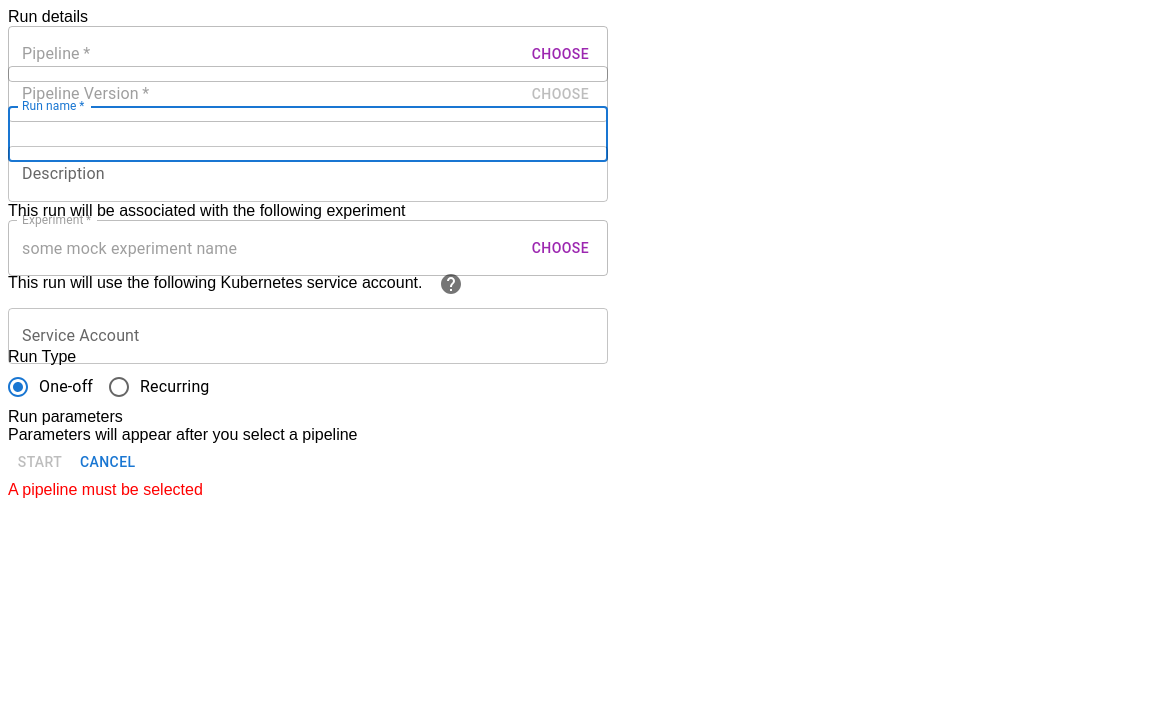
Test: NewRun › choosing a pipeline version › sets the pipeline version from the selector modal when confirmed
The width and height of the screenshot is (1152, 720).
// Choose pipeline first
Click the 1st button "Choose": (560, 54) [527,39,594,69]
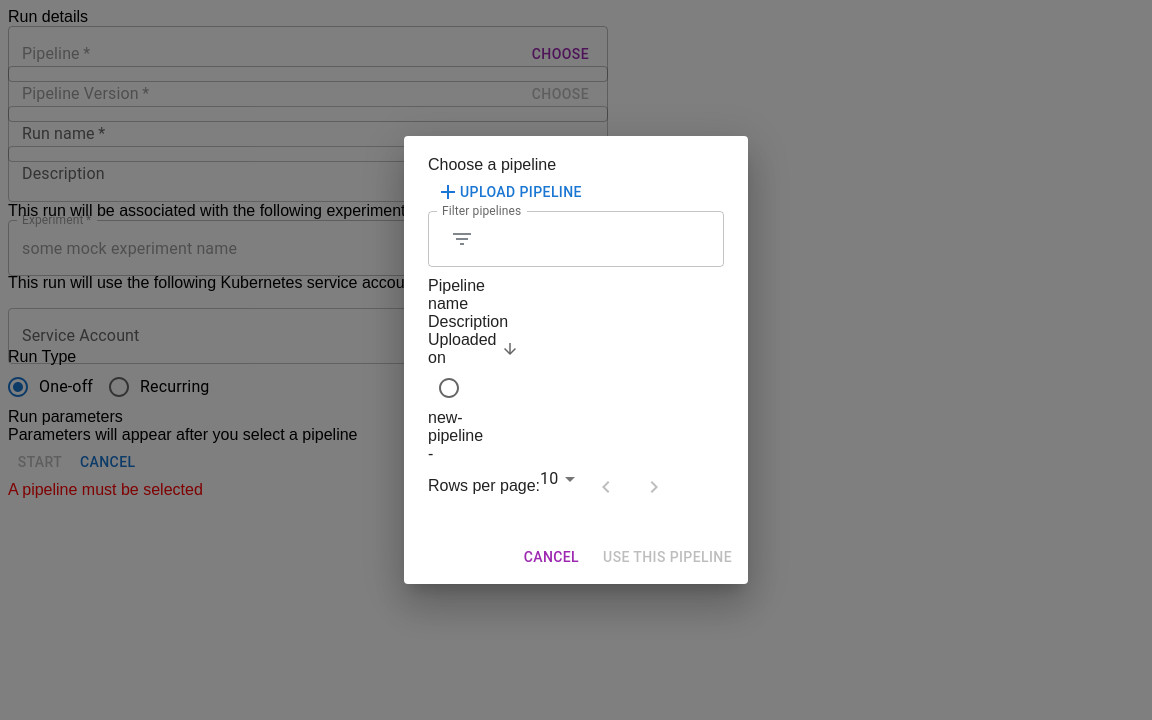
Click the text "new-pipeline": (445, 418) [428,409,483,444]
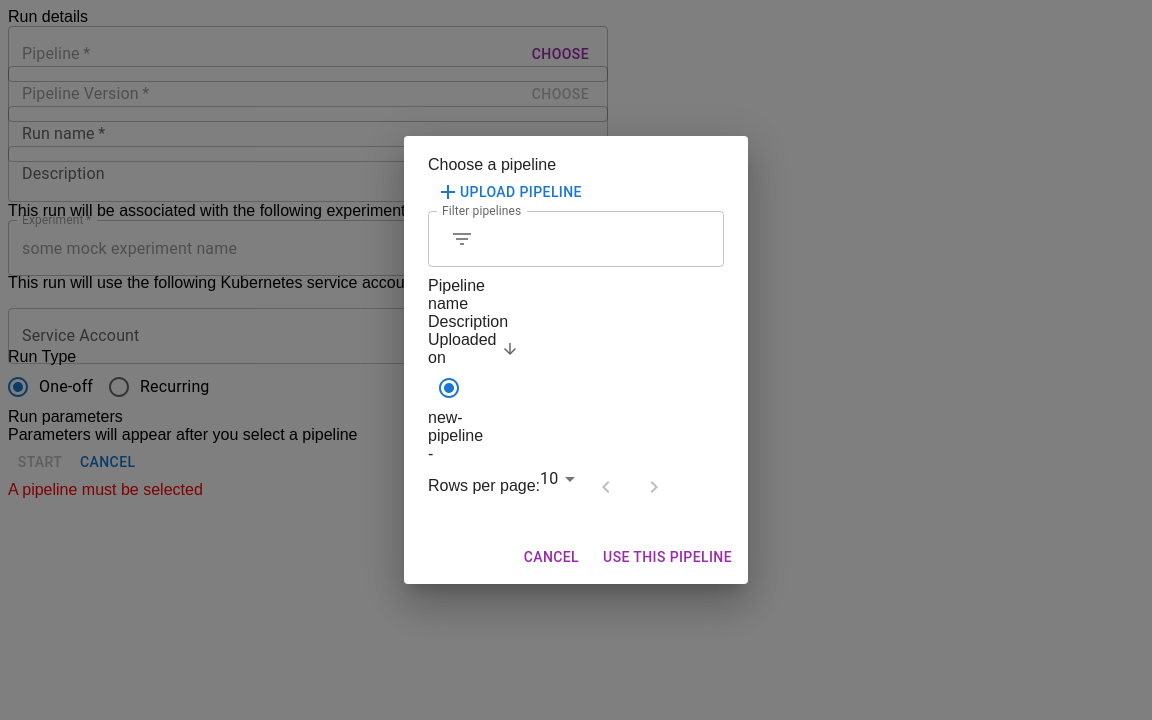
Click the button "Use this pipeline": (668, 558) [595,539,740,576]
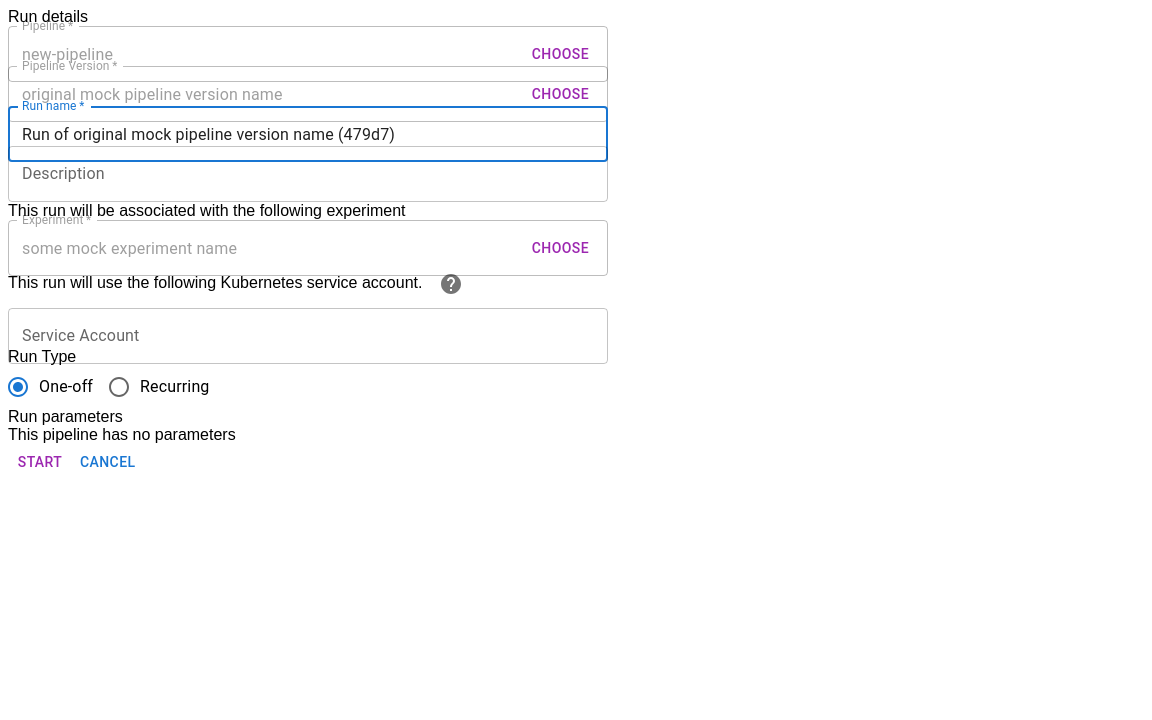
Result: the 2nd button "Choose" is enabled
Click the 2nd button "Choose": (560, 94) [527,79,594,109]
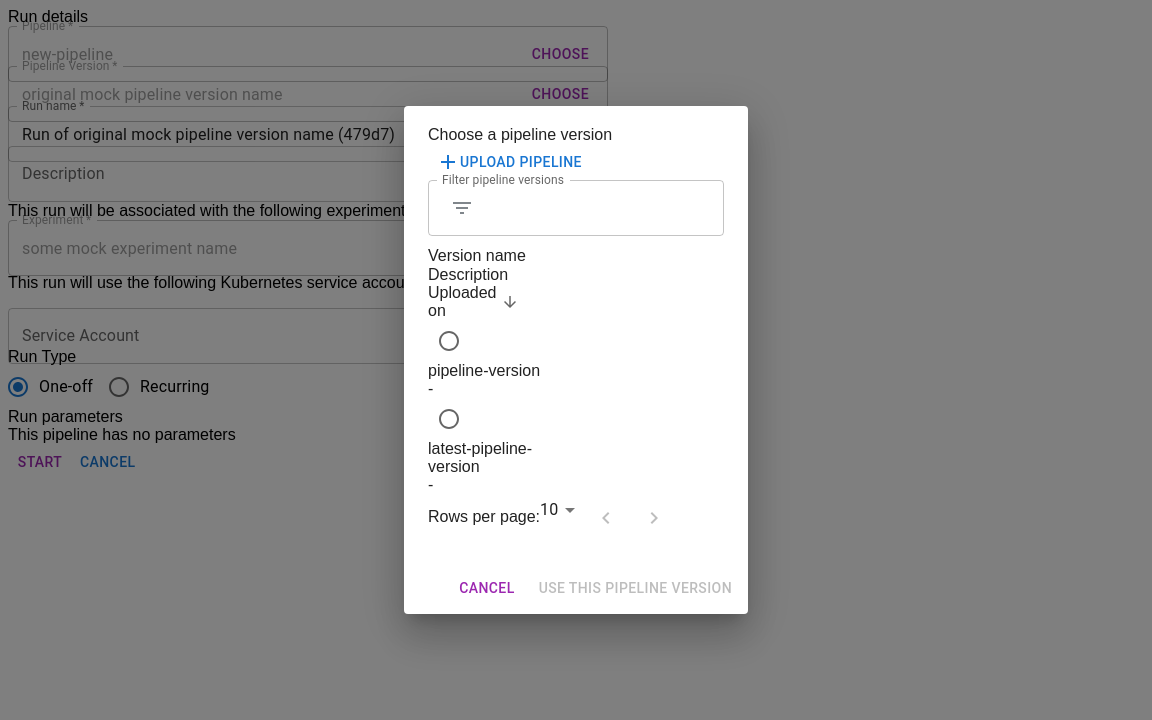
// Find and click the pipeline version in the modal
Click the text "latest-pipeline-version": (480, 448) [428,440,532,475]
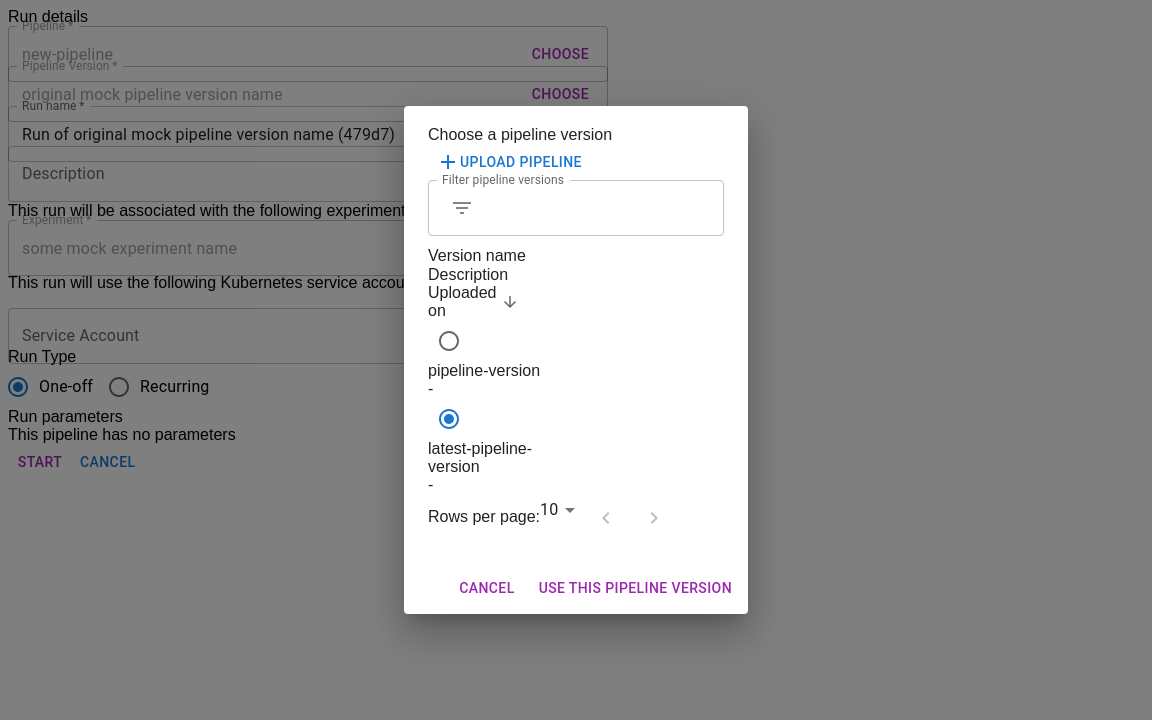
Click the button "Use this pipeline version": (635, 588) [531,570,740,606]
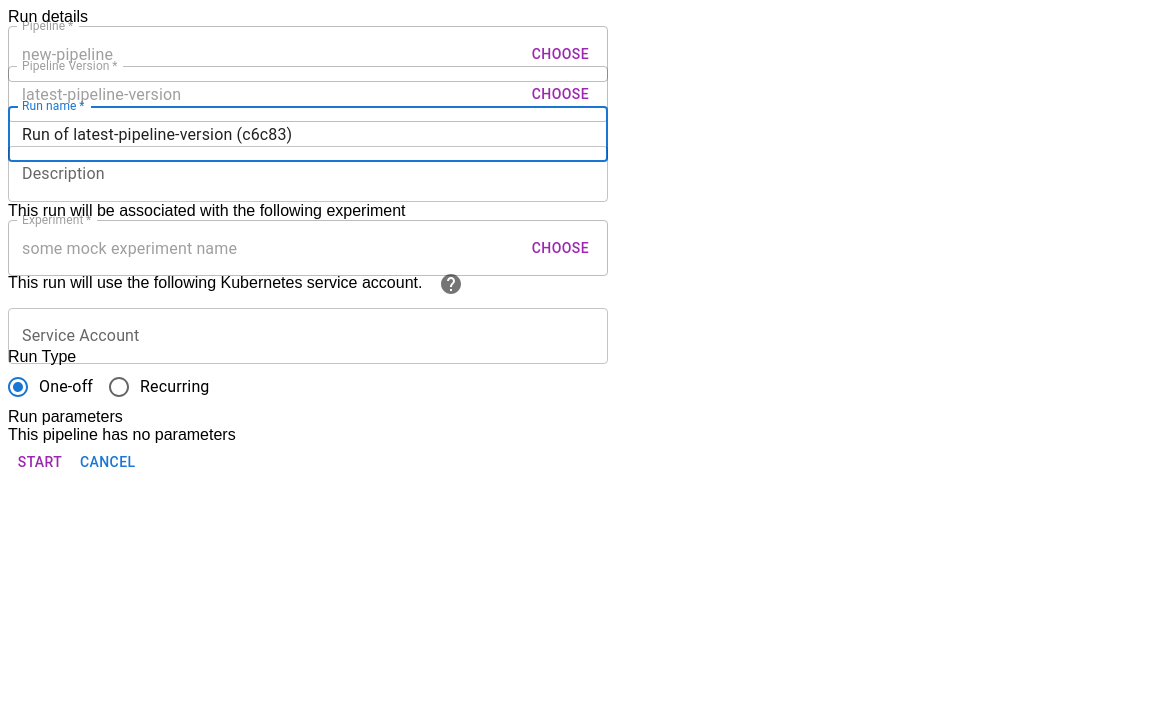
Result: the field showing "latest-pipeline-version" is shown at [8,66,519,122]
